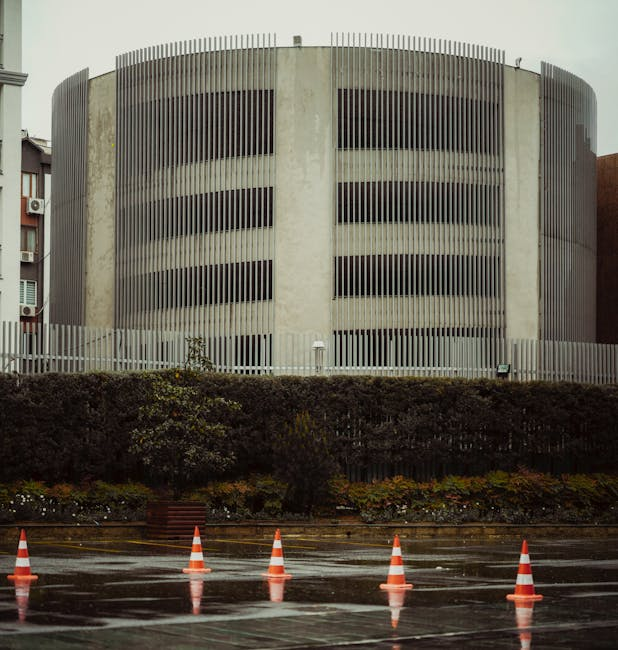traffic_cone: (506, 539, 544, 602), (379, 533, 414, 591), (6, 528, 38, 581), (261, 528, 292, 579), (182, 525, 212, 574), (513, 601, 535, 650), (384, 590, 408, 629), (14, 580, 31, 621), (188, 575, 204, 615), (267, 578, 288, 603)
